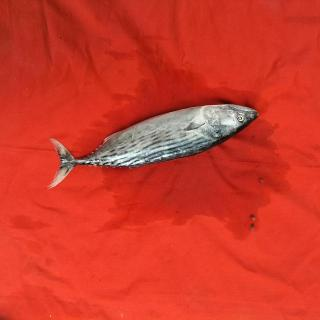Ikan: (42, 99, 262, 194)
